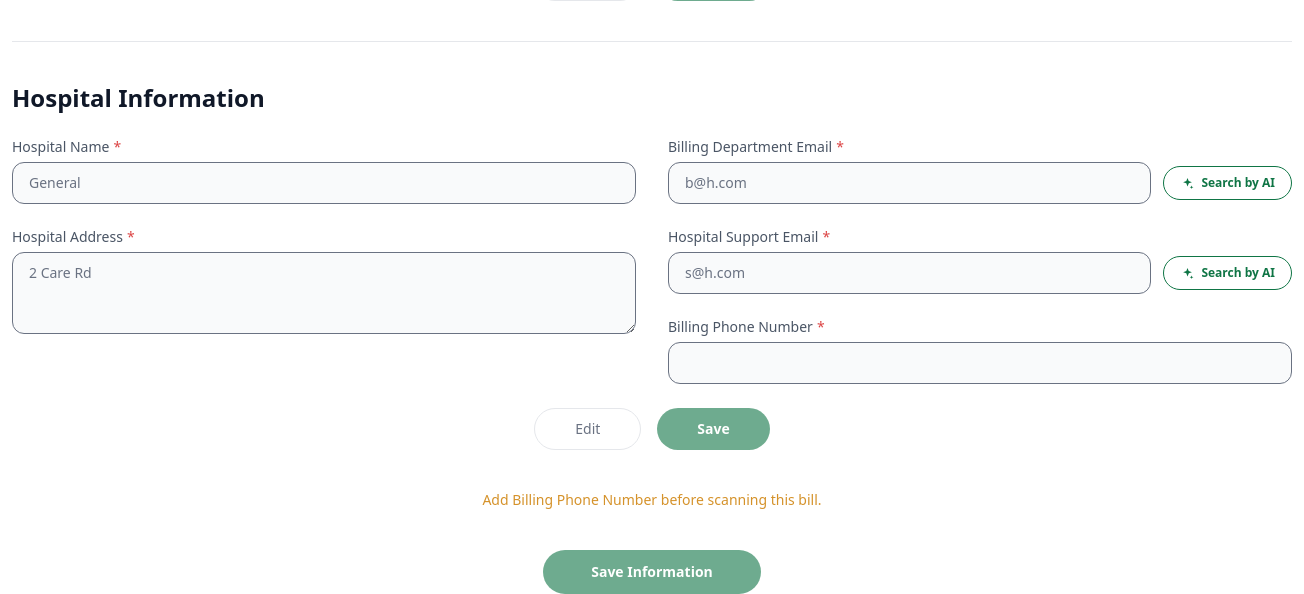
it: CaseInformationStep › lets a blank field be typed in and unblocks
This screenshot has width=1304, height=594.
(page scrolled)
Click the button "Edit" below "Hospital Support Email" at {"x": 588, "y": 429}, box [534,408,641,450]
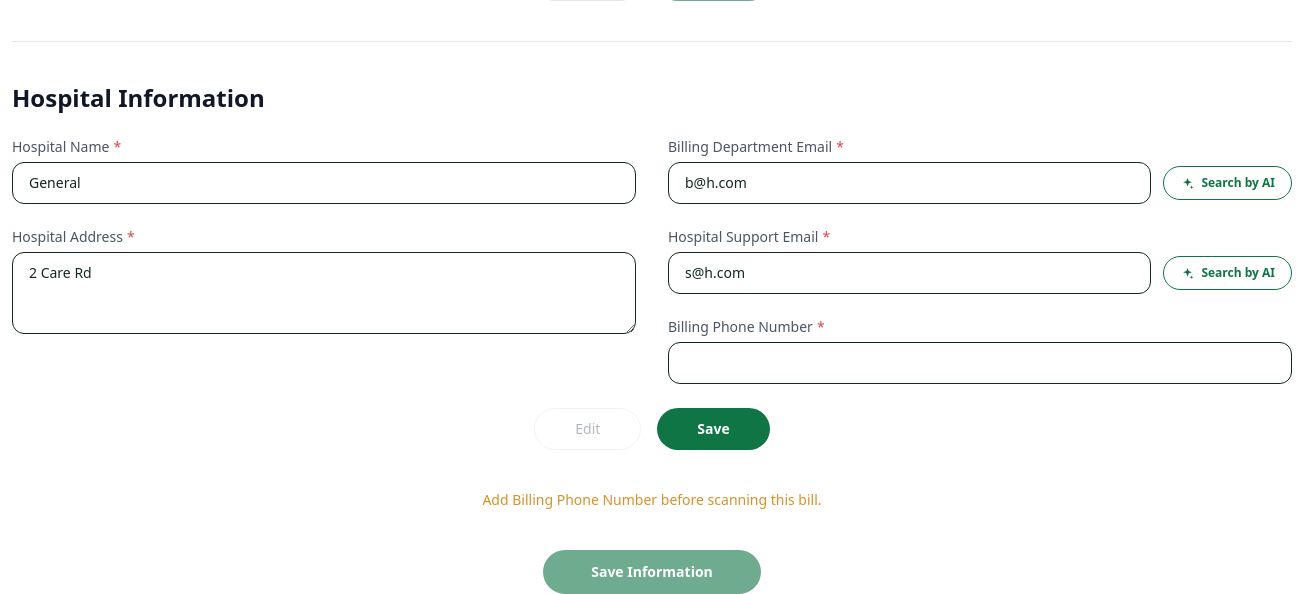
Type "555-0100" into the field labelled "Billing Phone Number*" at {"x": 980, "y": 363}, box [668,342,1292,384]
(page scrolled)
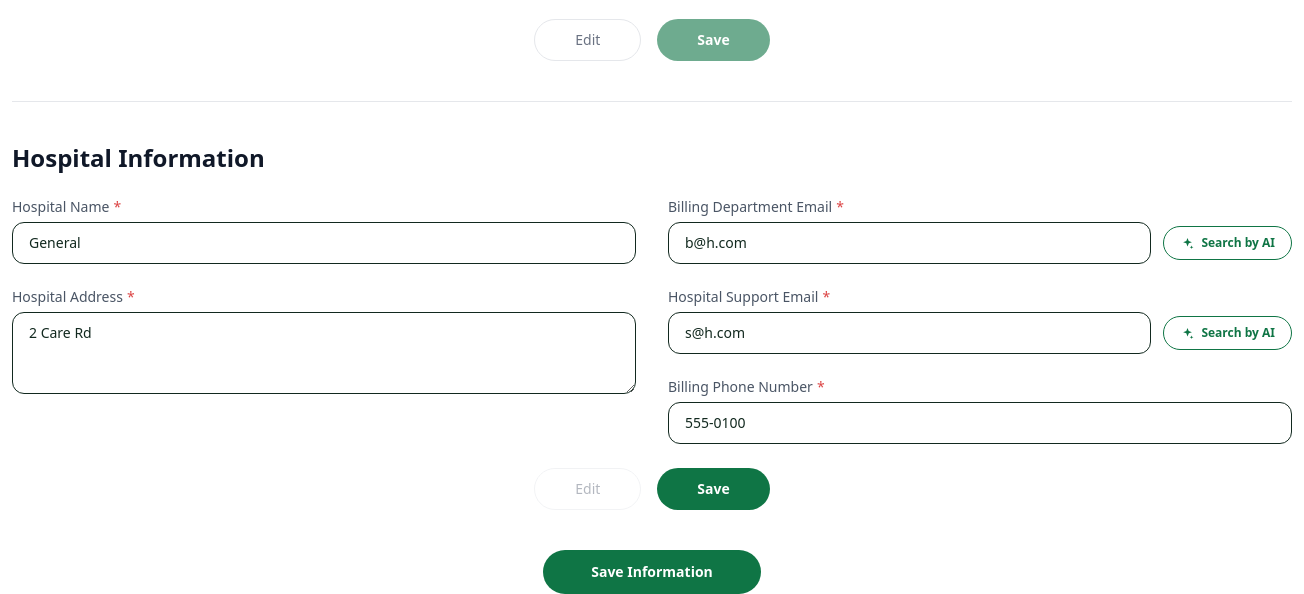
Expected: the button "Save Information" is enabled, [543,550,761,593]
